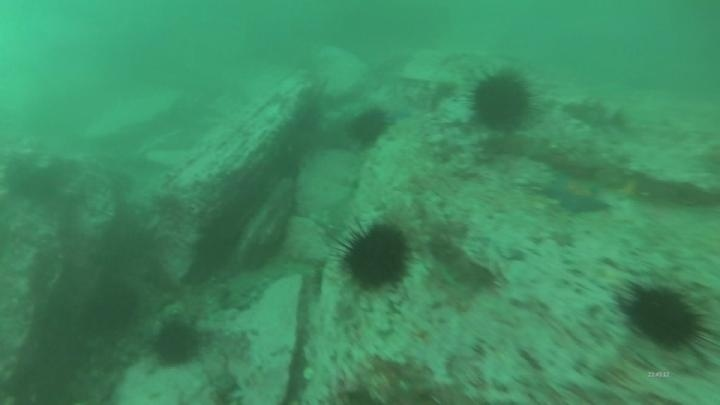echinus: (618, 279, 711, 354), (337, 219, 414, 293), (466, 66, 537, 134), (82, 280, 141, 339), (150, 317, 203, 369), (346, 106, 392, 149)
starfish: (540, 171, 613, 217), (380, 101, 415, 125)
